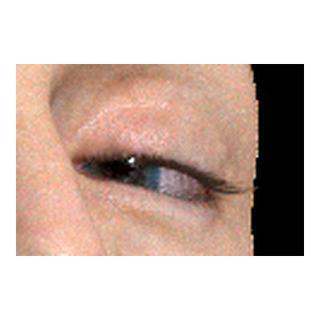pupil: (100, 155, 137, 192)
